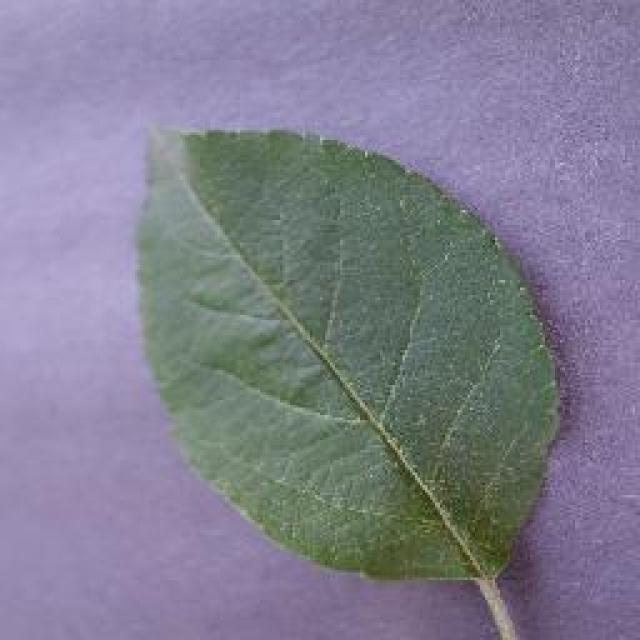Apple___healthy: (128, 116, 569, 594)
